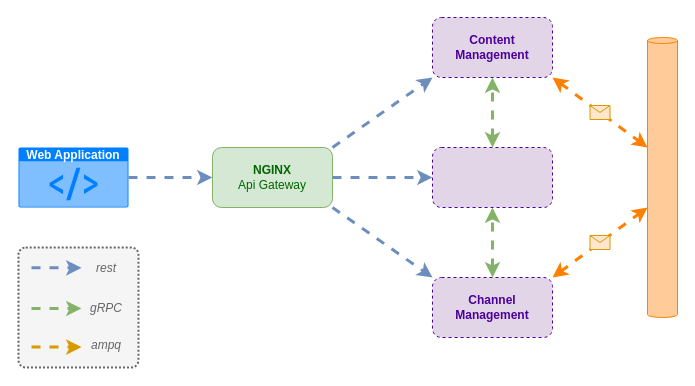
Some shapes in this 695 by 386 pixel diagram are drawn without their labels. Here are the shapes that lost their labels. From the top down, the centre of each, then its label:
At point (492, 177): "User Management".
At point (662, 177): "RabbitMQ".
